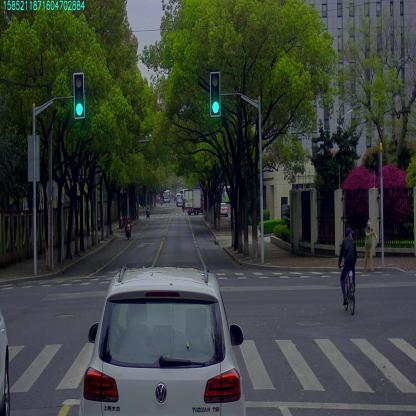traffic-light: (73, 73, 84, 118), (210, 72, 220, 116)
